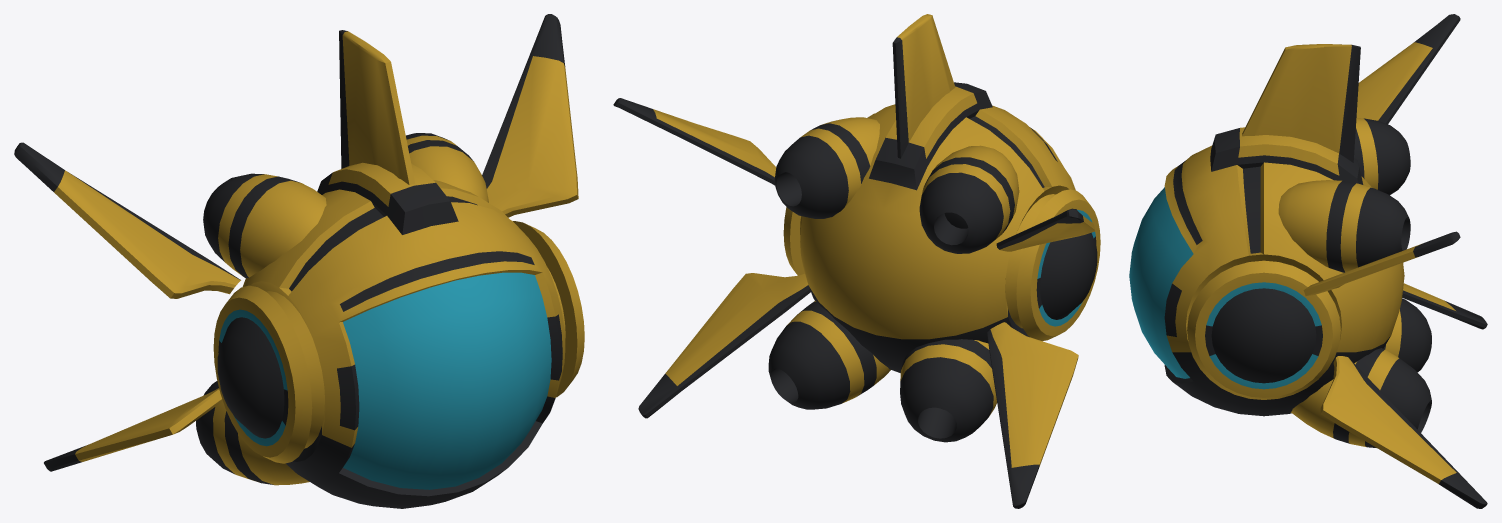
Rendered from Spaceship_02.glb.
3 views of the same model, side by side, from view 1: azimuth 30°, elevation 25°; view 2: azimuth 150°, elevation 25°; view 3: azimuth 270°, elevation 25° (orthographic). The views are drawn at different scales.
Parts seen in each view (by area): view 1: Spaceship_BarbaraTheBee; view 2: Spaceship_BarbaraTheBee; view 3: Spaceship_BarbaraTheBee.
Boxes of the visible parts, left/top/right/bottom form: Spaceship_BarbaraTheBee: left=14, top=14, right=584, bottom=508; Spaceship_BarbaraTheBee: left=613, top=14, right=1100, bottom=508; Spaceship_BarbaraTheBee: left=1129, top=14, right=1487, bottom=508.
Size of the model in its own units: 7.34 by 5.7 by 4.96.
1 material, 1 textured.
